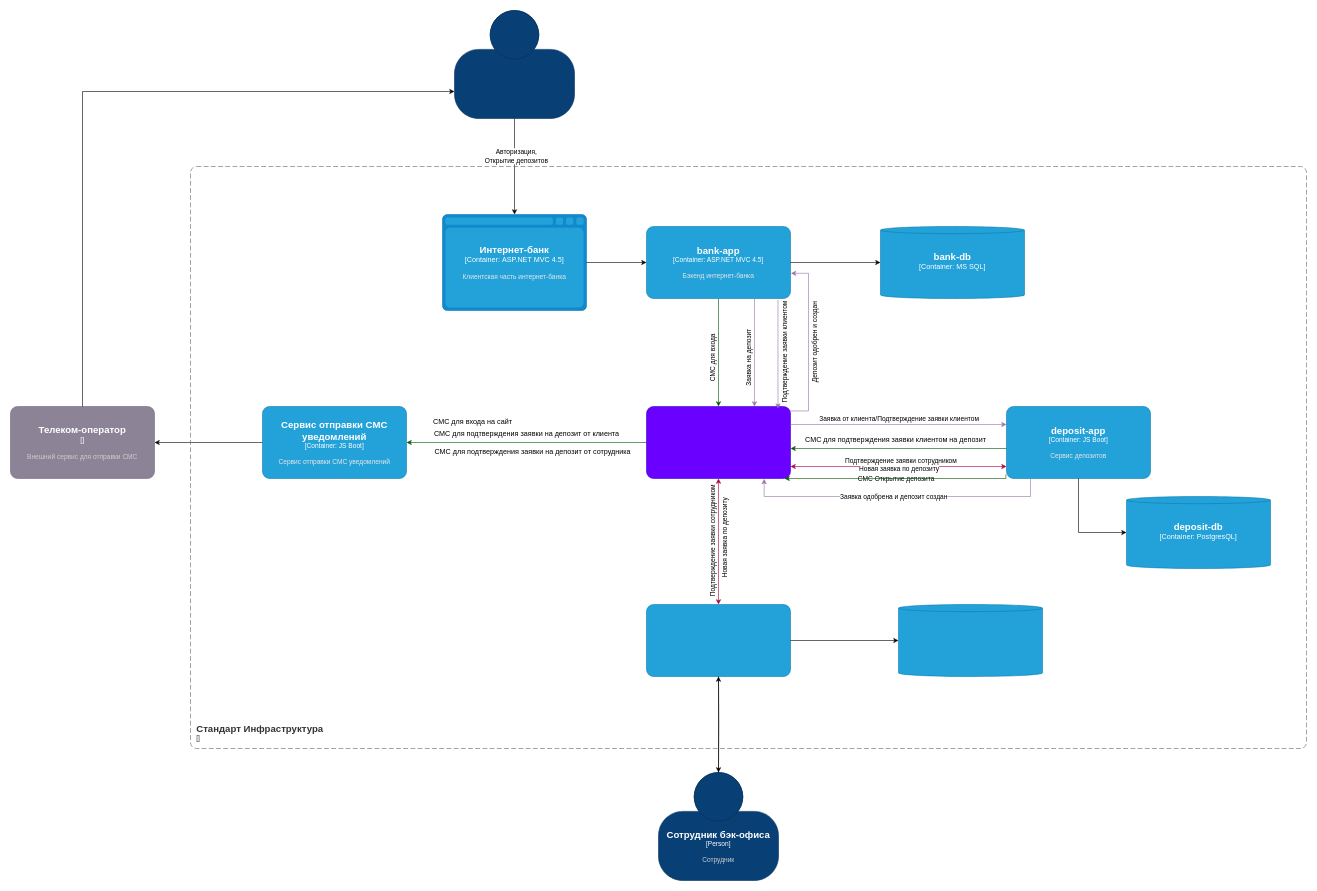
The diagram is 1317 pixels wide and 891 high, and some of its shapes have lost their labels. Each missing label, with the centre of its shape:
"abs-db [Container: Oracle]" belongs at (x=970, y=640).
"Message Broker [Container: Kafka] Брокер сообщений для обмена событиями" belongs at (x=718, y=442).
"АБС [Container: Delphi] Банковский клиент для сотрудников." belongs at (x=718, y=640).
"Клиент [Person] Клиент" belongs at (x=514, y=64).
